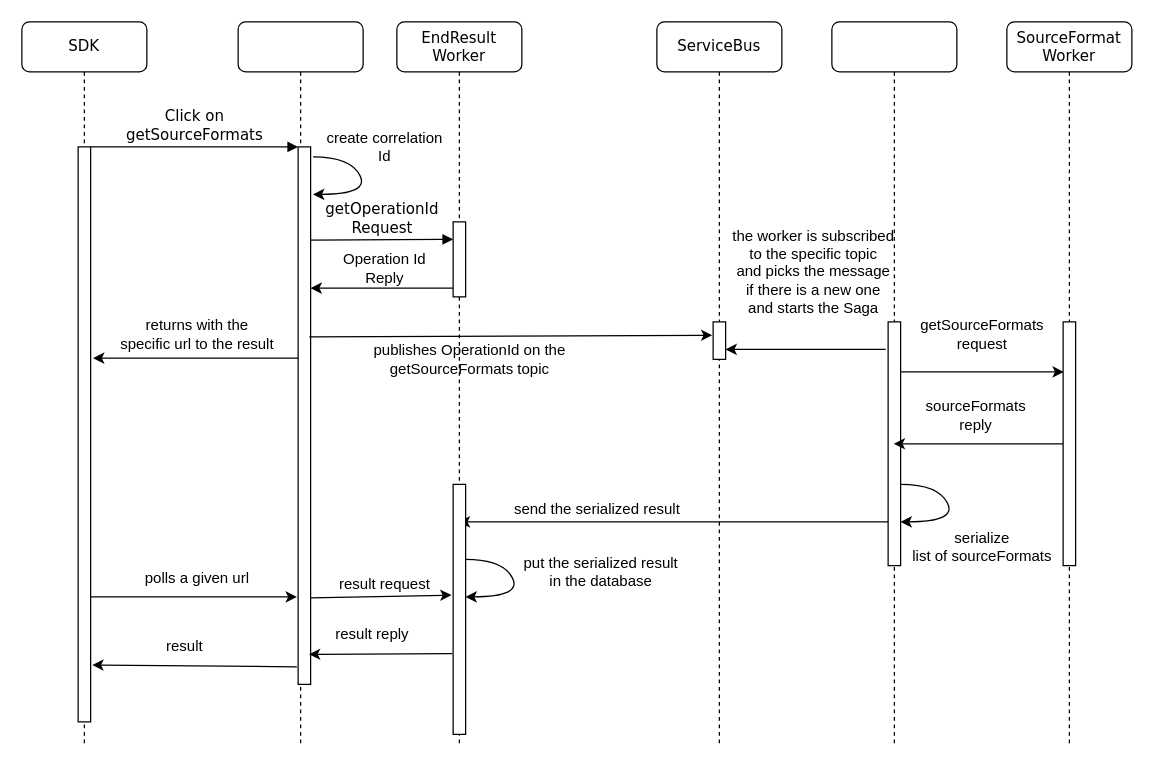
The diagram is 1154 pixels wide and 769 high, and some of its shapes have lost their labels. The box of each missing label's shape, as (x1, y1, x2, y2) in pixels:
REST Api: (237, 21, 363, 747)
Saganator Worker: (831, 21, 957, 747)
